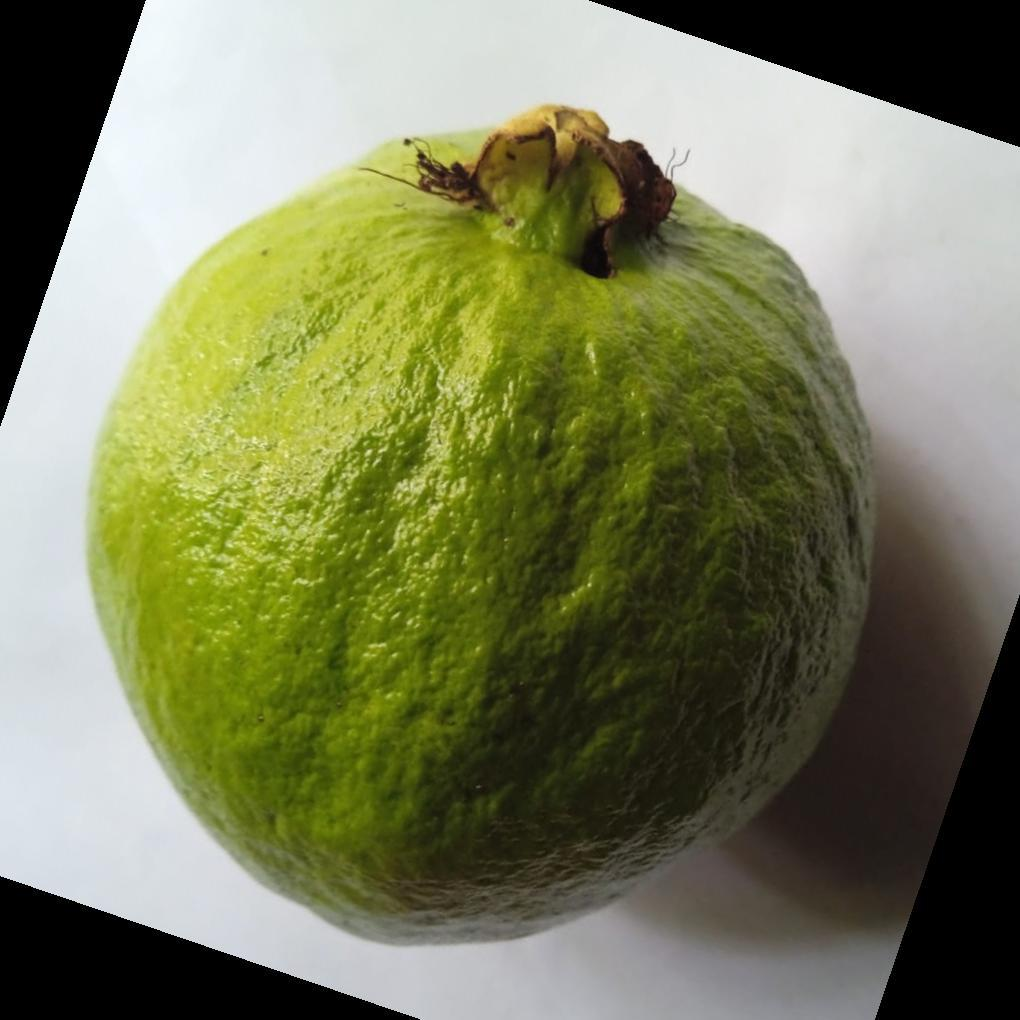FreshGuava: (80, 105, 879, 951)
